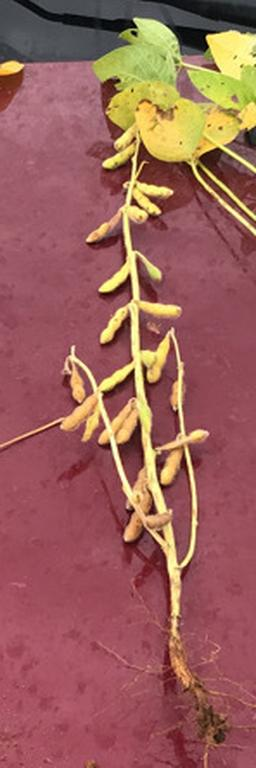pod: (86, 206, 122, 247), (98, 361, 134, 391), (160, 445, 184, 490), (96, 144, 137, 170), (96, 259, 127, 293), (138, 254, 165, 282), (69, 368, 84, 405), (170, 375, 184, 412)
soy: (60, 27, 256, 746)
